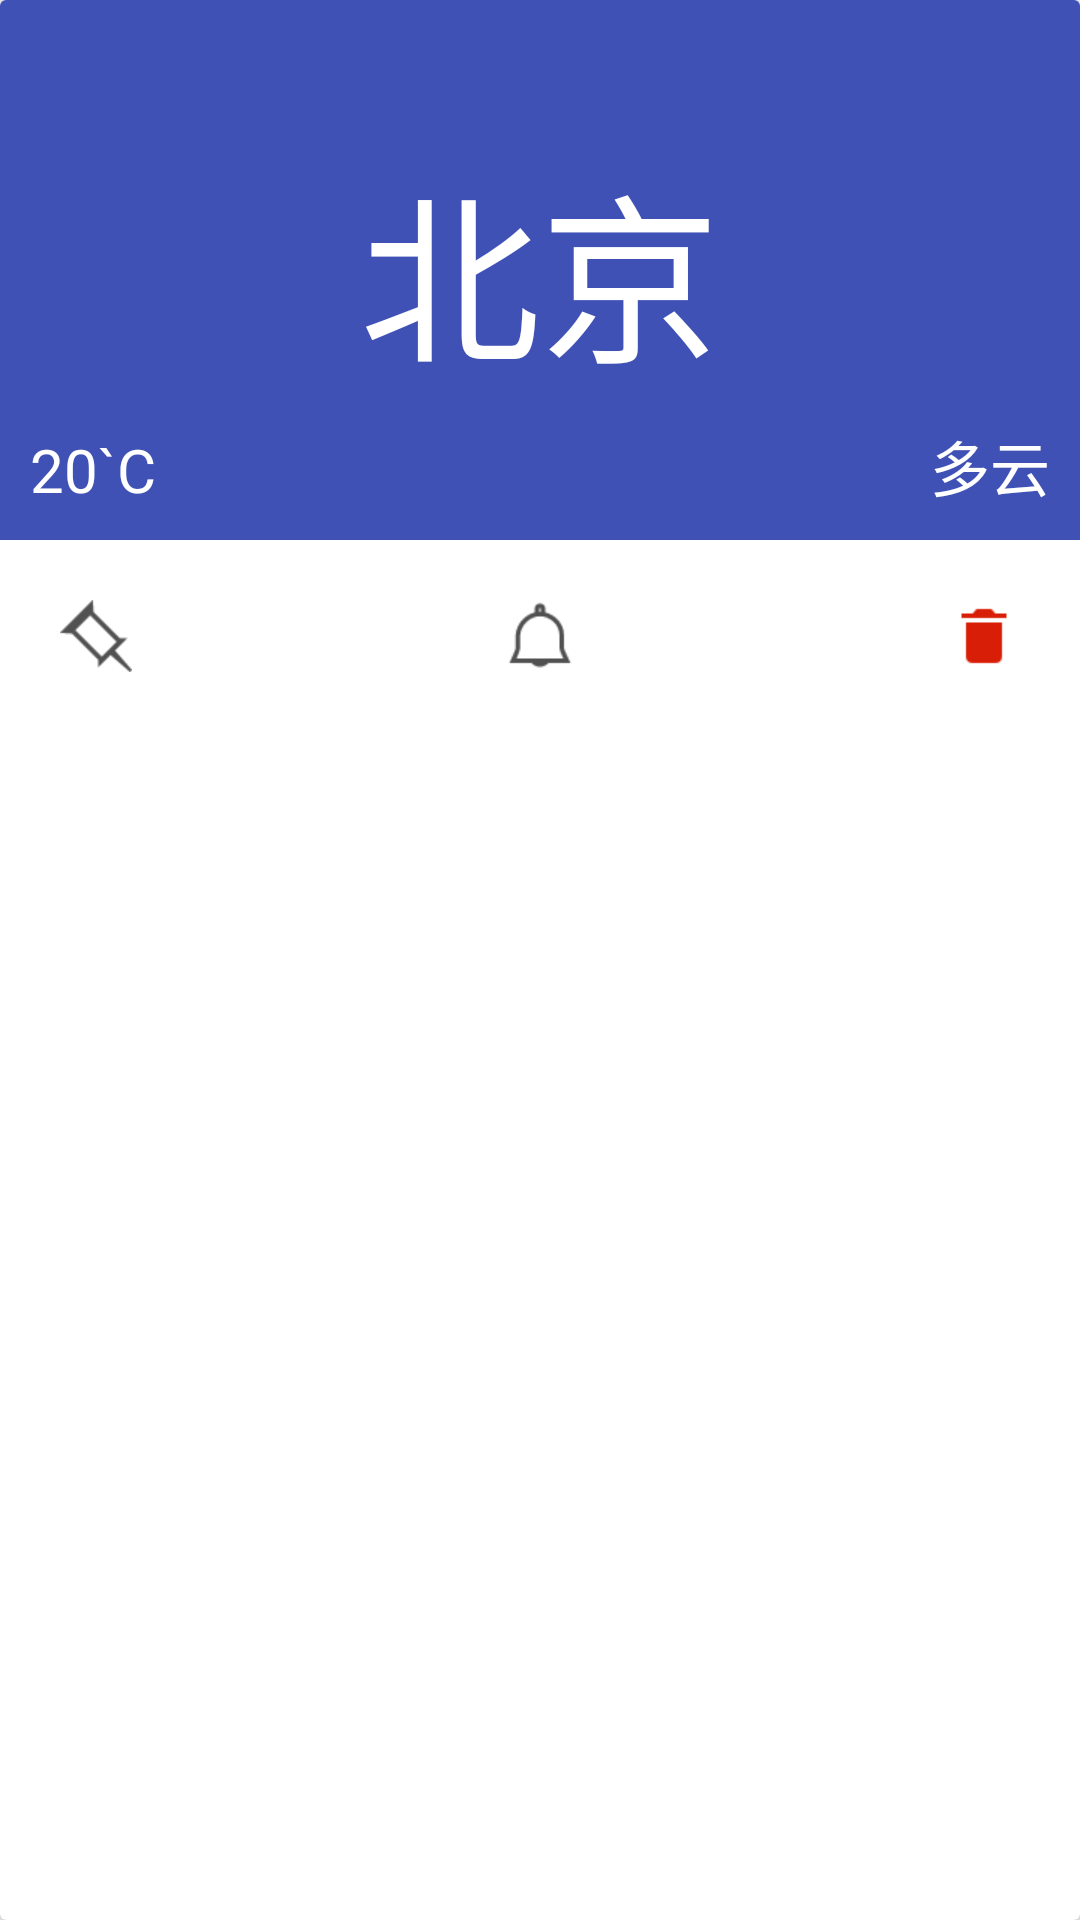

Named icons in this screenshot (1080w x 1920h) and their bounding boxes, (x1, y1, x2, y2):
delete: (961, 608, 1007, 664)
fix: (60, 600, 132, 672)
notification: (509, 603, 571, 668)
